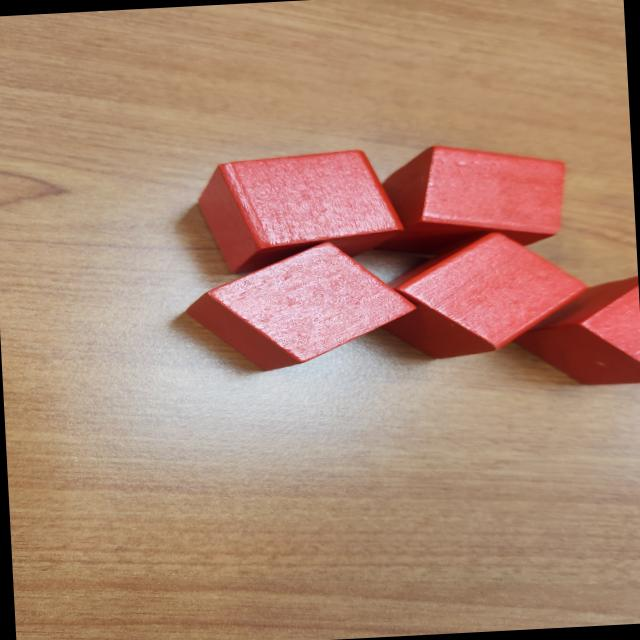red: (188, 236, 404, 378), (374, 226, 590, 362), (194, 148, 398, 277), (374, 139, 573, 256), (510, 274, 640, 391)
